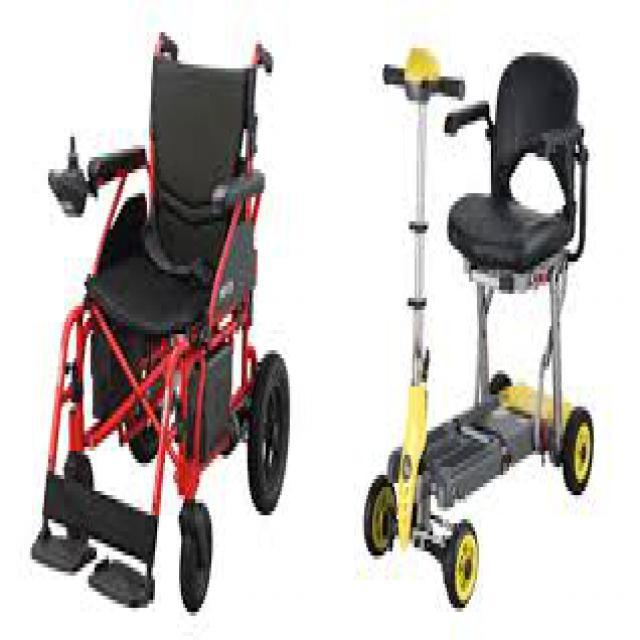wheelchair: (18, 16, 296, 624)
